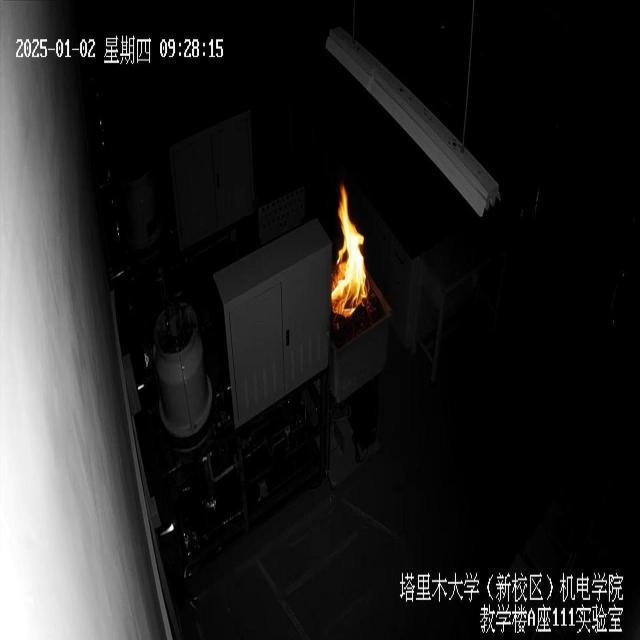smoke: (324, 181, 374, 319)
